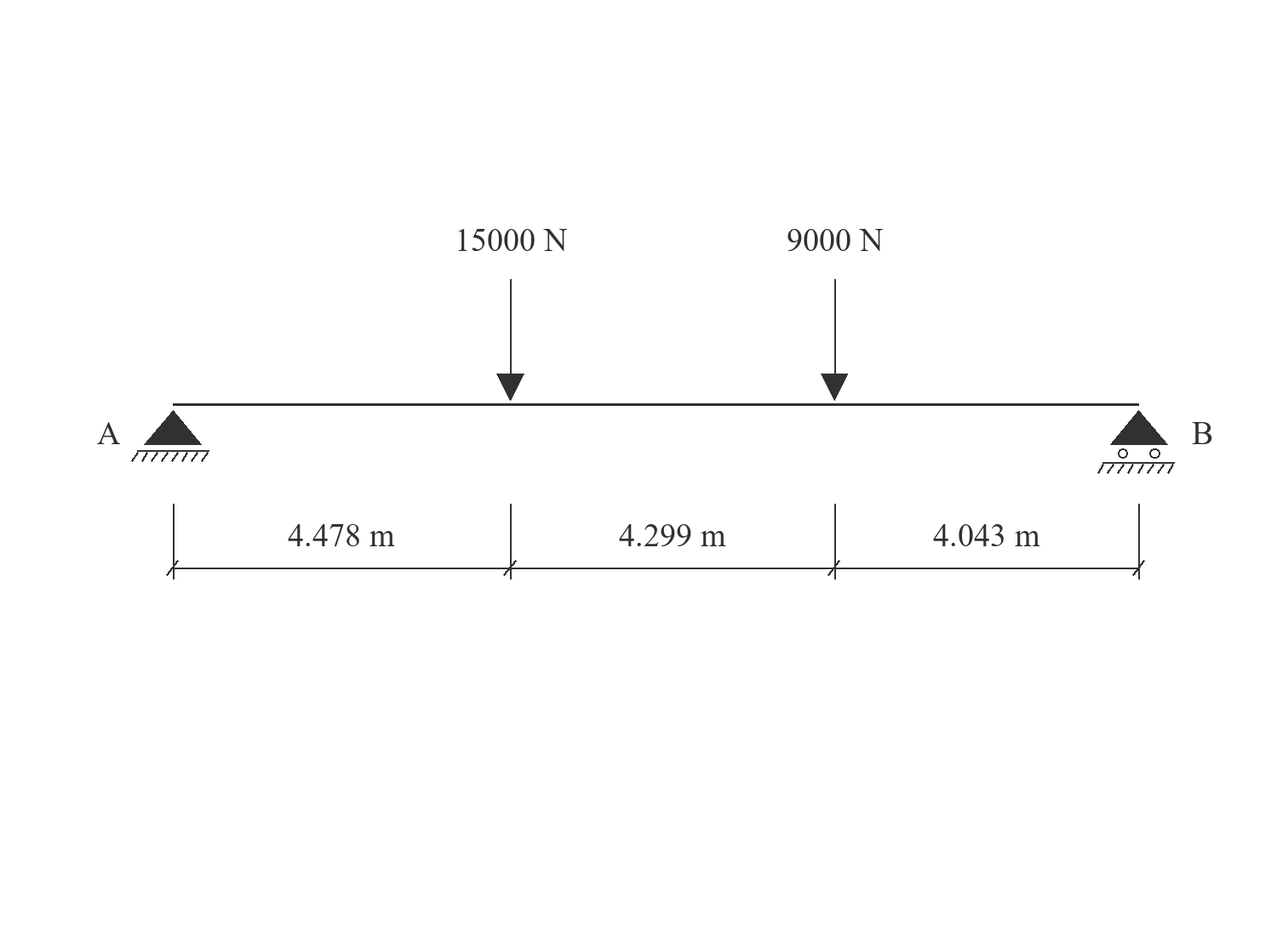pin_support: (131, 410, 209, 462)
point_load: (496, 279, 524, 401), (821, 279, 848, 401)
roller_support: (1097, 410, 1175, 474)
